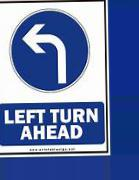left: (8, 6, 91, 92)
